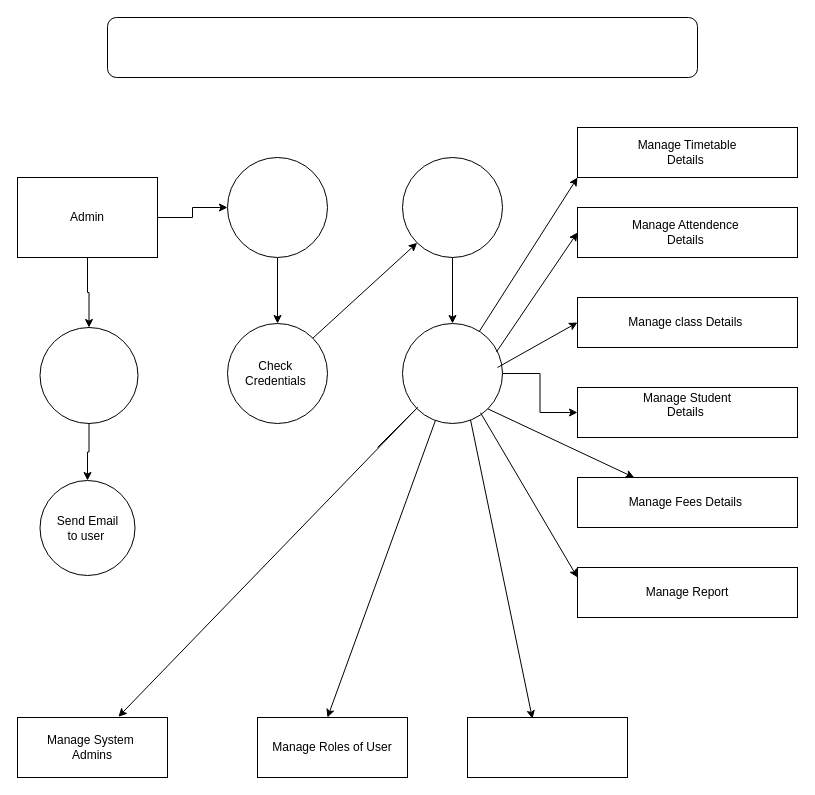
The diagram is 815 pixels wide and 795 high, and some of its shapes have lost their labels. Each missing label, with the centre of its shape:
"Check Roles of Access" goes at (x=452, y=207).
"Forgot Password" goes at (x=88, y=375).
"Login to system" goes at (x=277, y=207).
"Manage Modules" goes at (x=452, y=373).
"Student information system" goes at (x=402, y=47).
